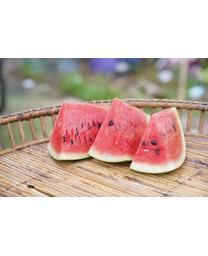watermelon: (43, 96, 187, 175)
